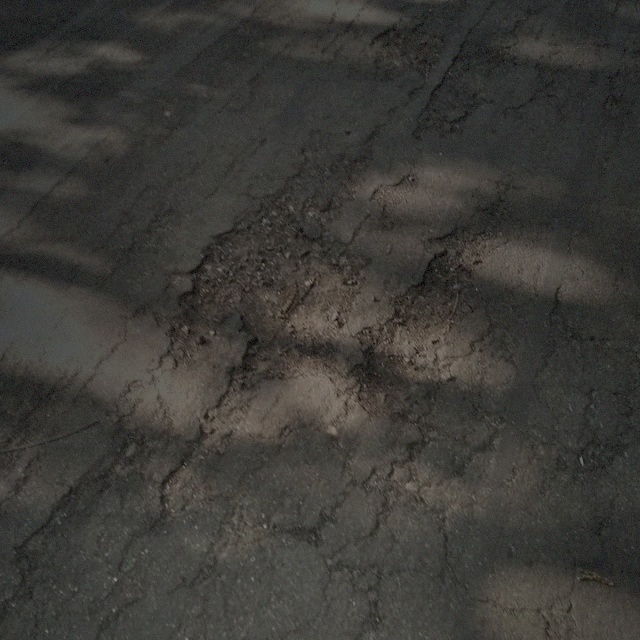pothole: (157, 204, 359, 388), (348, 245, 474, 416), (369, 15, 442, 84)
